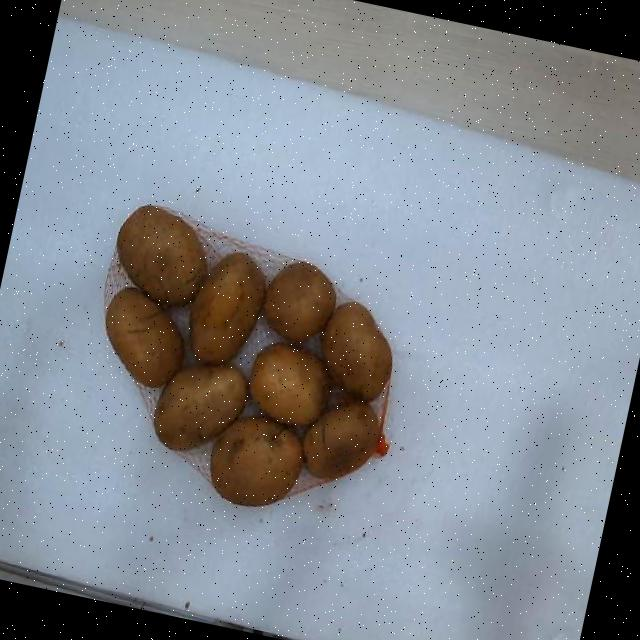potato: (117, 207, 206, 305), (191, 252, 265, 364), (210, 417, 303, 505), (154, 365, 247, 450), (106, 288, 183, 387), (249, 342, 329, 425), (323, 301, 390, 400), (303, 403, 381, 477), (264, 262, 336, 341)
